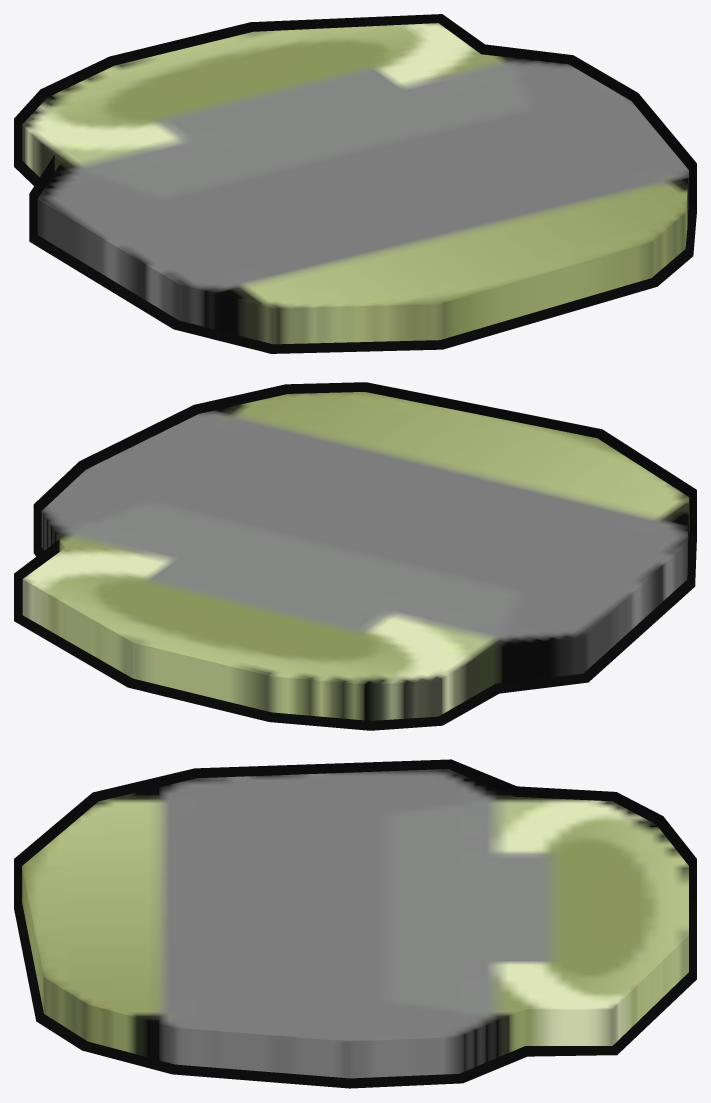
File: Item_Apparel_PackTox_Things_Pawn_Humanlike_Apparel_ToxPack_ToxPack.glb
3 views of the same model, one above another, from view 1: azimuth 30°, elevation 25°; view 2: azimuth 150°, elevation 25°; view 3: azimuth 270°, elevation 25° (orthographic). The views are drawn at different scales.
Visible parts, largest first — view 1: Body, Outline; view 2: Body, Outline; view 3: Body, Outline.
Boxes of the visible parts, x1,y1,x2,y2 form: Body: [22, 23, 688, 344]; Outline: [14, 14, 696, 353]; Body: [22, 392, 689, 720]; Outline: [14, 382, 696, 730]; Body: [22, 769, 688, 1078]; Outline: [14, 759, 696, 1088].
Size of the model in its own units: 0.4724 by 0.0416 by 0.4881.
Materials: 2 (1 with a texture image).
